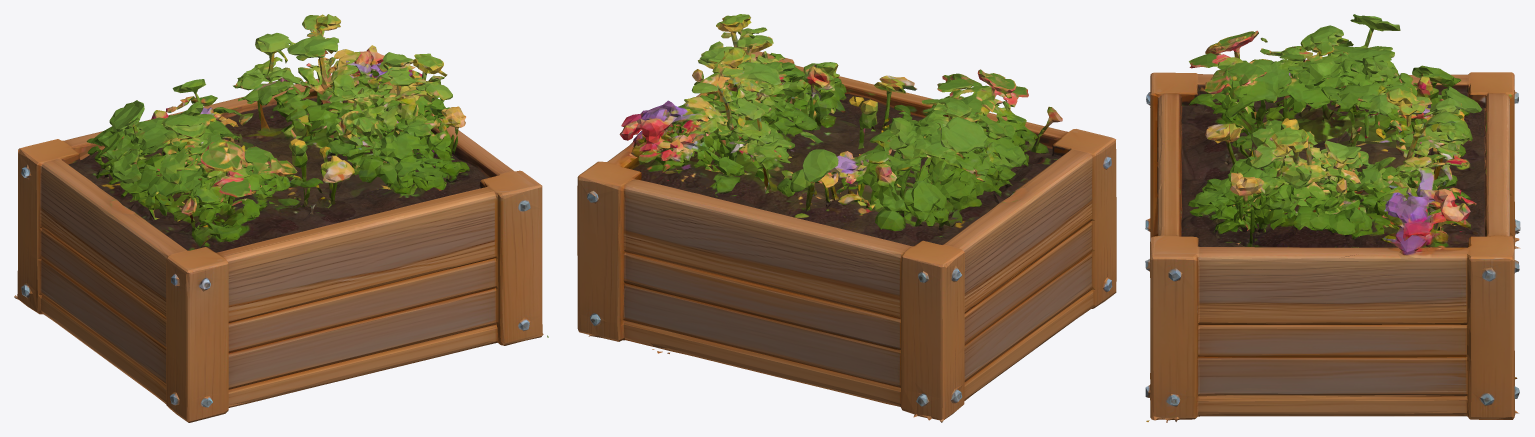
File: flowerbox.glb
3 views of the same model, side by side, from view 1: azimuth 30°, elevation 25°; view 2: azimuth 150°, elevation 25°; view 3: azimuth 270°, elevation 25° (orthographic). The views are drawn at different scales.
Parts seen in each view (by area): view 1: textured_mesh.obj; view 2: textured_mesh.obj; view 3: textured_mesh.obj.
Part boxes in pixels (x1,y1,x2,y2): textured_mesh.obj: (14, 14, 548, 422); textured_mesh.obj: (577, 14, 1116, 422); textured_mesh.obj: (1145, 14, 1520, 422).
Size of the model in its own units: 1.98 by 1.36 by 1.64.
Materials: 1 (1 with a texture image).
